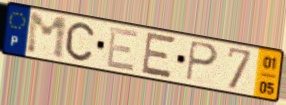7: (227, 45, 254, 92)
C: (64, 21, 96, 63)
E: (140, 30, 178, 80), (104, 25, 140, 73)
M: (25, 11, 69, 62)
P: (185, 39, 220, 83)
